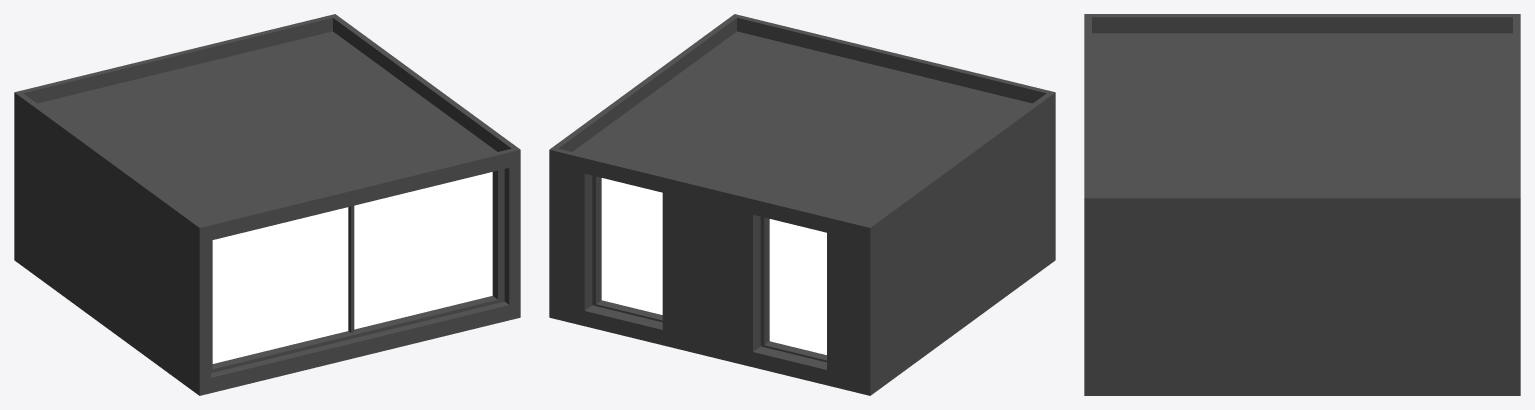
File: immeuble5Haut3.fbx
3 renders of one model, left to right at view 1: azimuth 30°, elevation 25°; view 2: azimuth 150°, elevation 25°; view 3: azimuth 270°, elevation 25°, orthographic. The views are drawn at different scales.
Visible parts, largest first — view 1: Cube.033; view 2: Cube.033; view 3: Cube.033.
Part boxes in pixels (left/top/right/bottom): Cube.033: left=14, top=14, right=520, bottom=395; Cube.033: left=549, top=14, right=1055, bottom=395; Cube.033: left=1084, top=14, right=1520, bottom=395.
Bounding box in the file's own units: 2000 × 1000 × 2000.
